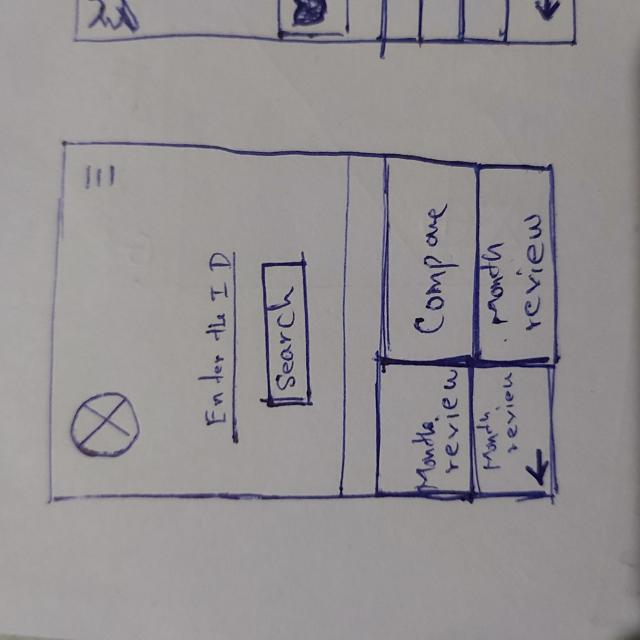BackButton: (522, 445, 550, 487)
Button: (377, 150, 476, 366), (474, 160, 562, 368), (375, 361, 471, 497), (471, 364, 556, 498), (259, 258, 313, 408)
DrawerToggleButton: (79, 158, 124, 194)
EditText: (199, 246, 240, 443)
Layout: (56, 141, 346, 501), (374, 146, 557, 501)
MainLayout: (46, 136, 569, 511)
RoundedImage: (69, 390, 145, 460)
